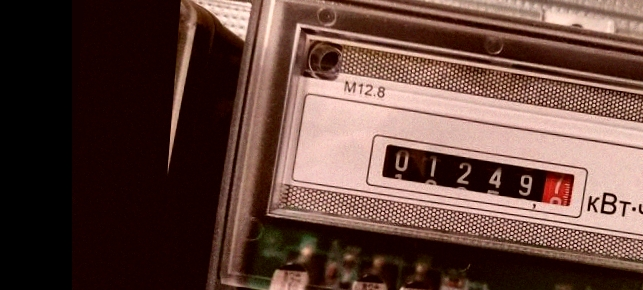0: (393, 145, 412, 173)
1: (425, 151, 441, 178)
2: (454, 159, 473, 187)
4: (487, 163, 505, 189)
7: (551, 169, 568, 196)
9: (516, 170, 535, 197)
screen: (364, 131, 592, 222)
